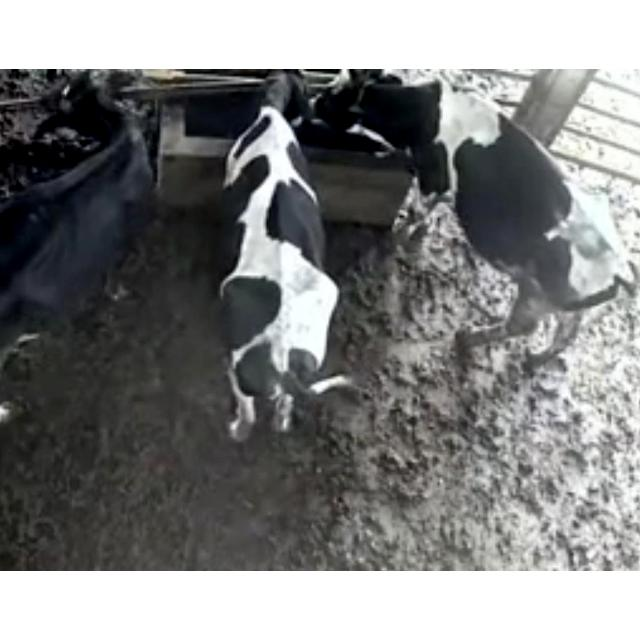drink: (309, 69, 441, 163), (214, 71, 316, 161)
